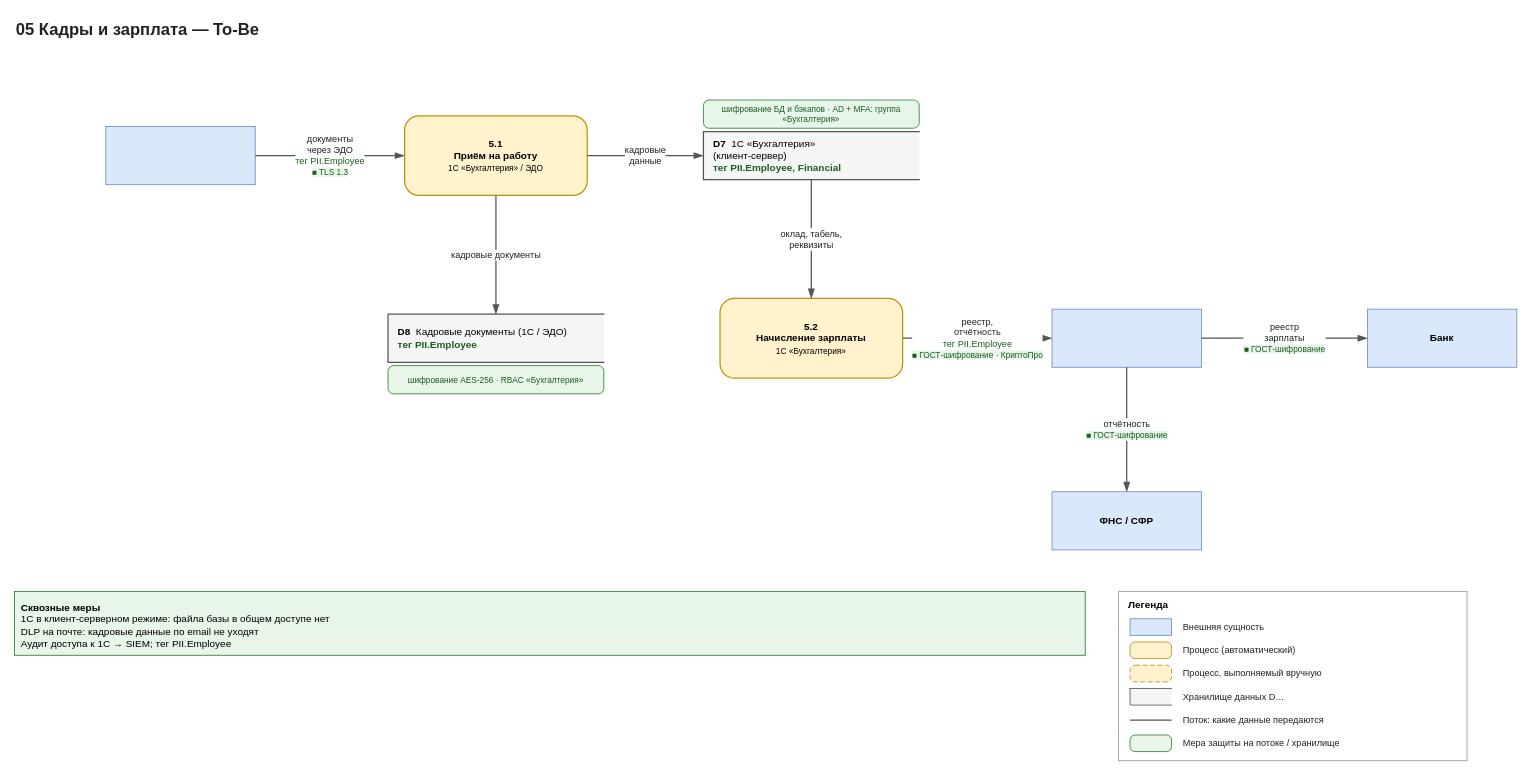
This 1531x775 diagram has some shape labels left out. Each missing label, with the centre of its shape:
Оператор ЭДО: (1126,337)
Сотрудник: (180,155)
